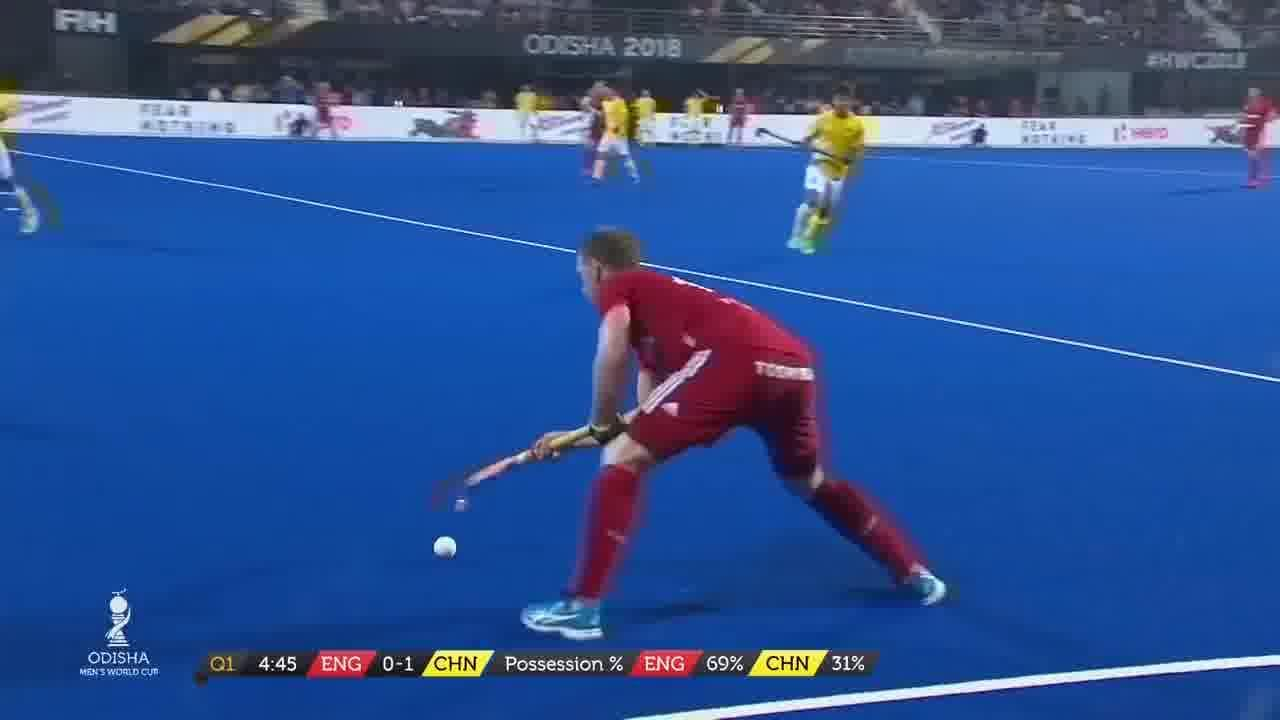ball: (432, 528, 464, 562)
